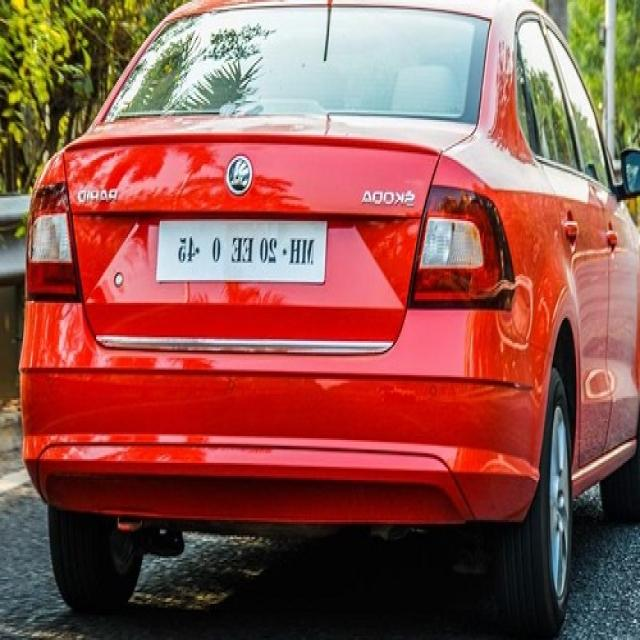number-plate: (164, 224, 341, 286)
